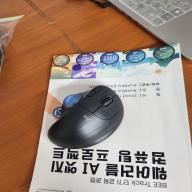mouse: (46, 85, 125, 149)
